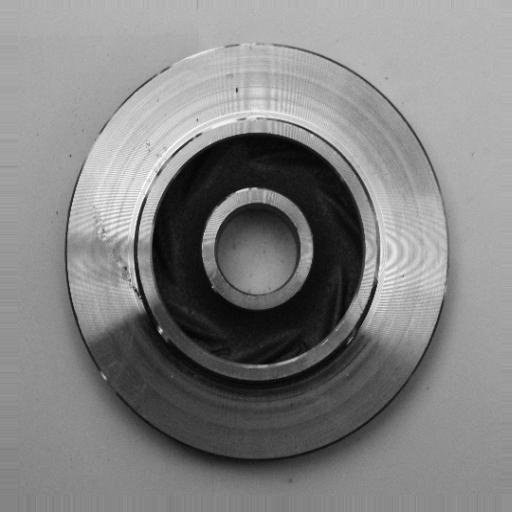crack: (87, 197, 152, 322)
scratch: (163, 20, 270, 74), (198, 103, 279, 135)
unpolished_casting: (59, 38, 453, 462)
